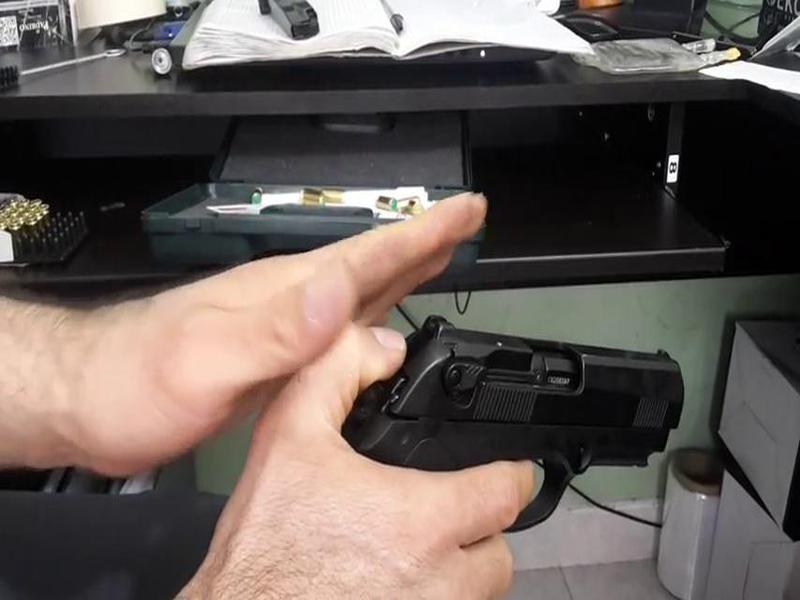Pistola: (330, 305, 698, 550)
